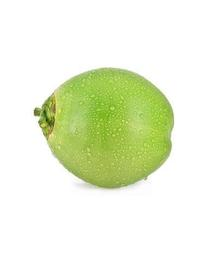coconut: (28, 67, 174, 200)
